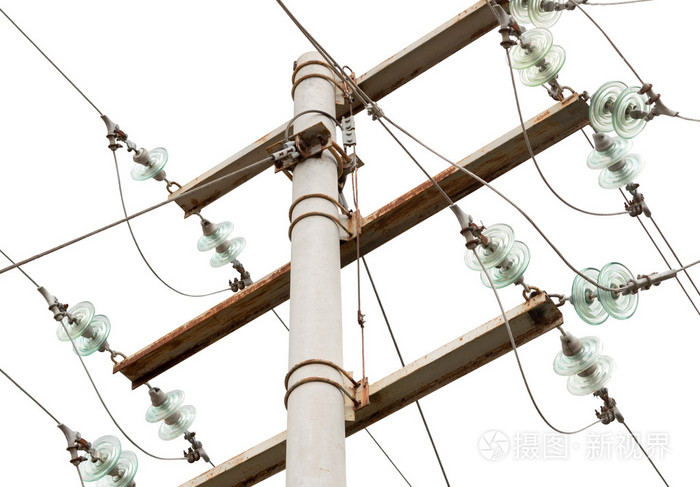insulator: (462, 222, 534, 291), (571, 260, 637, 325), (505, 27, 570, 88), (551, 338, 615, 397), (587, 82, 650, 138), (589, 135, 647, 191), (56, 300, 111, 358), (81, 437, 140, 487), (145, 387, 198, 440), (198, 218, 247, 268), (127, 145, 171, 184), (509, 1, 568, 25)
